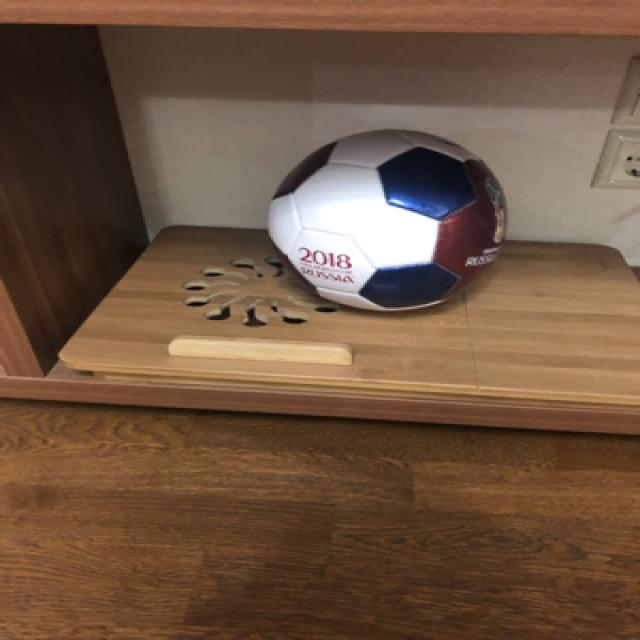soccer_ball: (258, 123, 510, 312)
